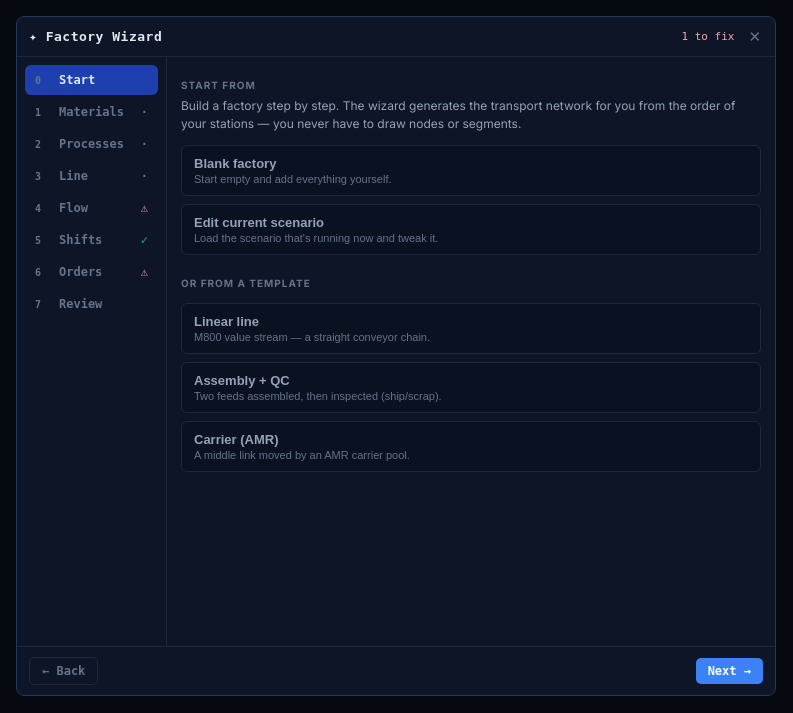
Test case: FactoryWizard › a blank start cannot be applied (no valid model yet)
The image size is (793, 713).
Click the button with test id "start-blank" at (235, 164), box left=181, top=145, right=761, bottom=196
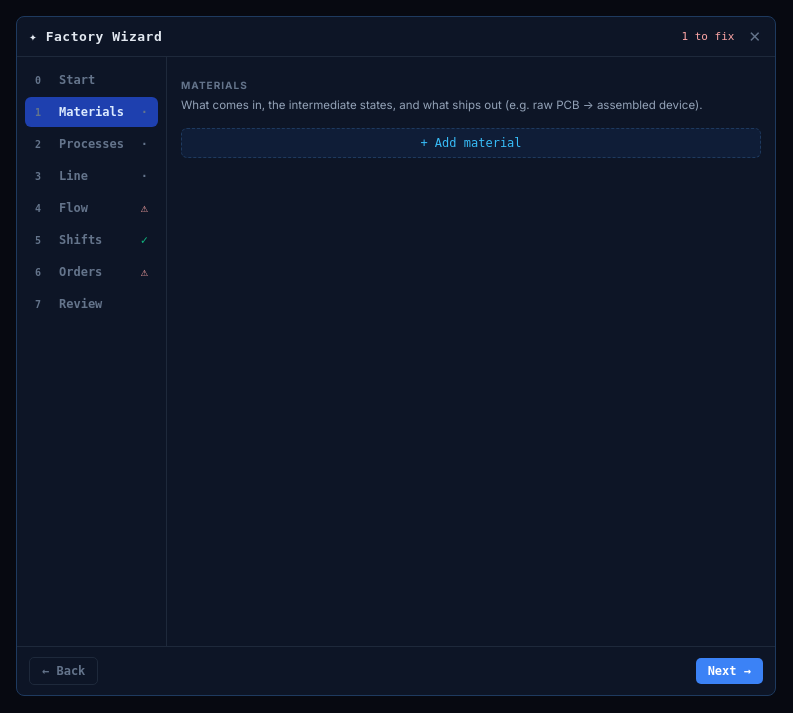
// jump to review
Click the button with test id "wizard-step-review" at (92, 304), box left=25, top=289, right=158, bottom=319
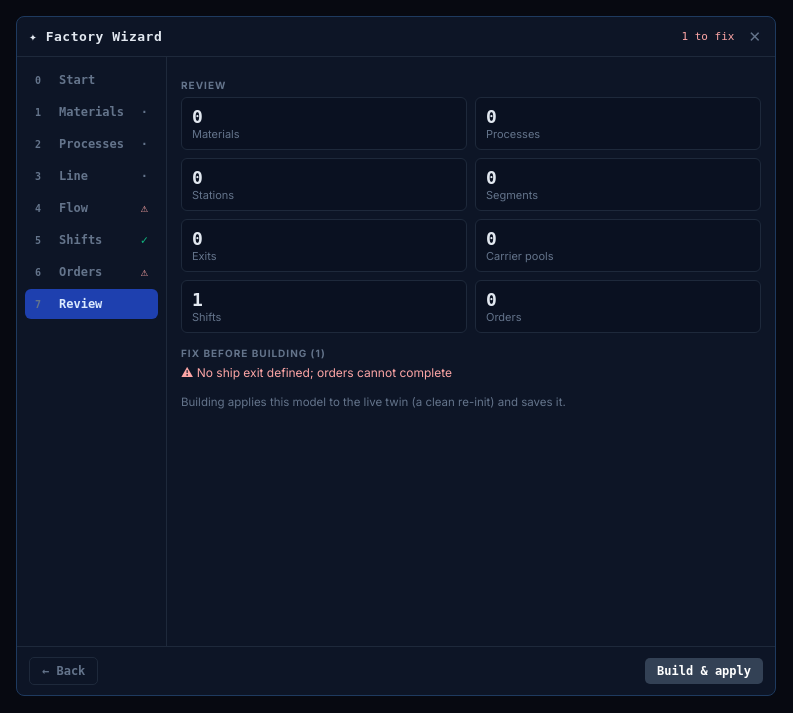
Now the button with test id "wizard-apply" is disabled, box left=645, top=658, right=763, bottom=684
Now the element with test id "wiz-review-errors" is shown, box left=181, top=347, right=452, bottom=380
